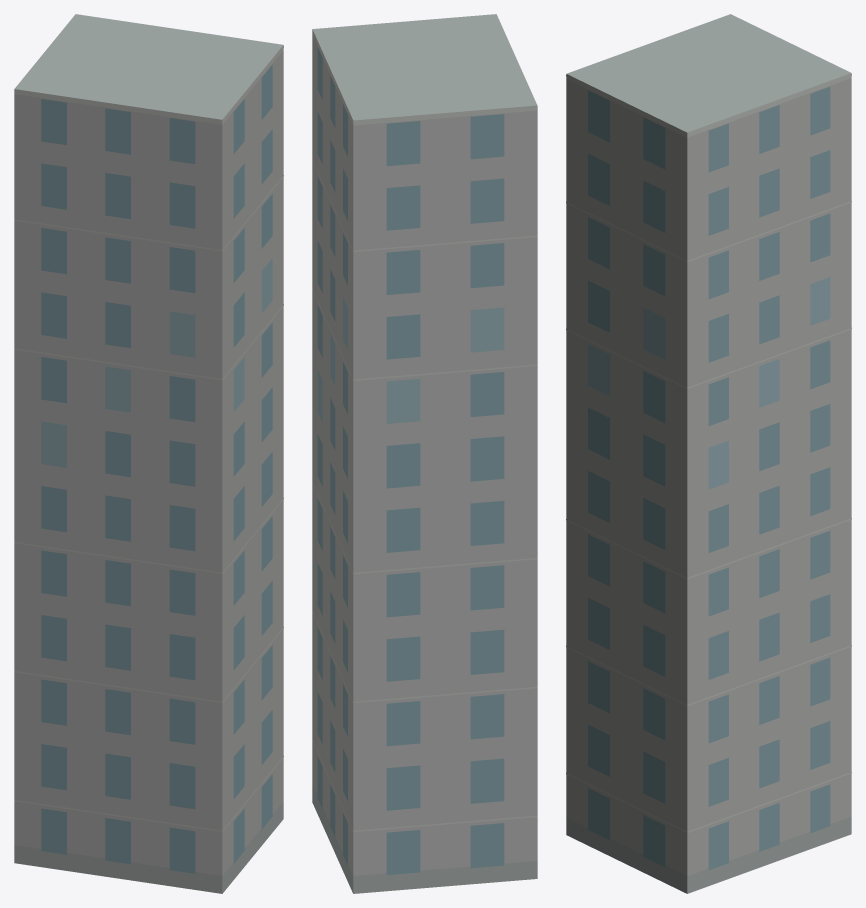
The model's file is survey-upis-32957868.glb.
3 views of the same model, side by side, from view 1: azimuth 30°, elevation 25°; view 2: azimuth 150°, elevation 25°; view 3: azimuth 270°, elevation 25° (orthographic).
Visible parts, largest first — view 1: survey-upis-32957868.tmp; view 2: survey-upis-32957868.tmp; view 3: survey-upis-32957868.tmp.
Part boxes in pixels (x1,y1,x2,y2): survey-upis-32957868.tmp: [14, 14, 283, 893]; survey-upis-32957868.tmp: [312, 14, 537, 893]; survey-upis-32957868.tmp: [566, 14, 851, 893].
Bounding box in the file's own units: 12.26 × 36.6 × 12.45.
